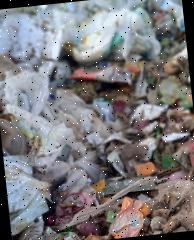general: (0, 114, 33, 157), (111, 195, 143, 238)
plastic: (5, 66, 52, 112)
